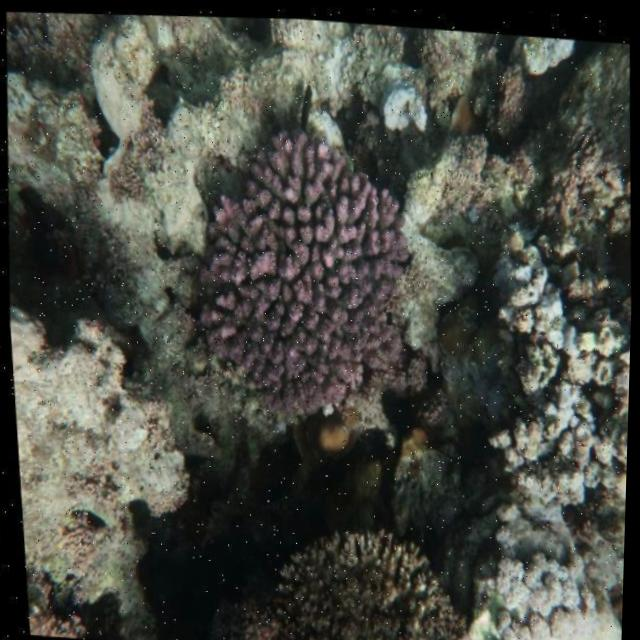Healthy Coral: (162, 103, 436, 445)
